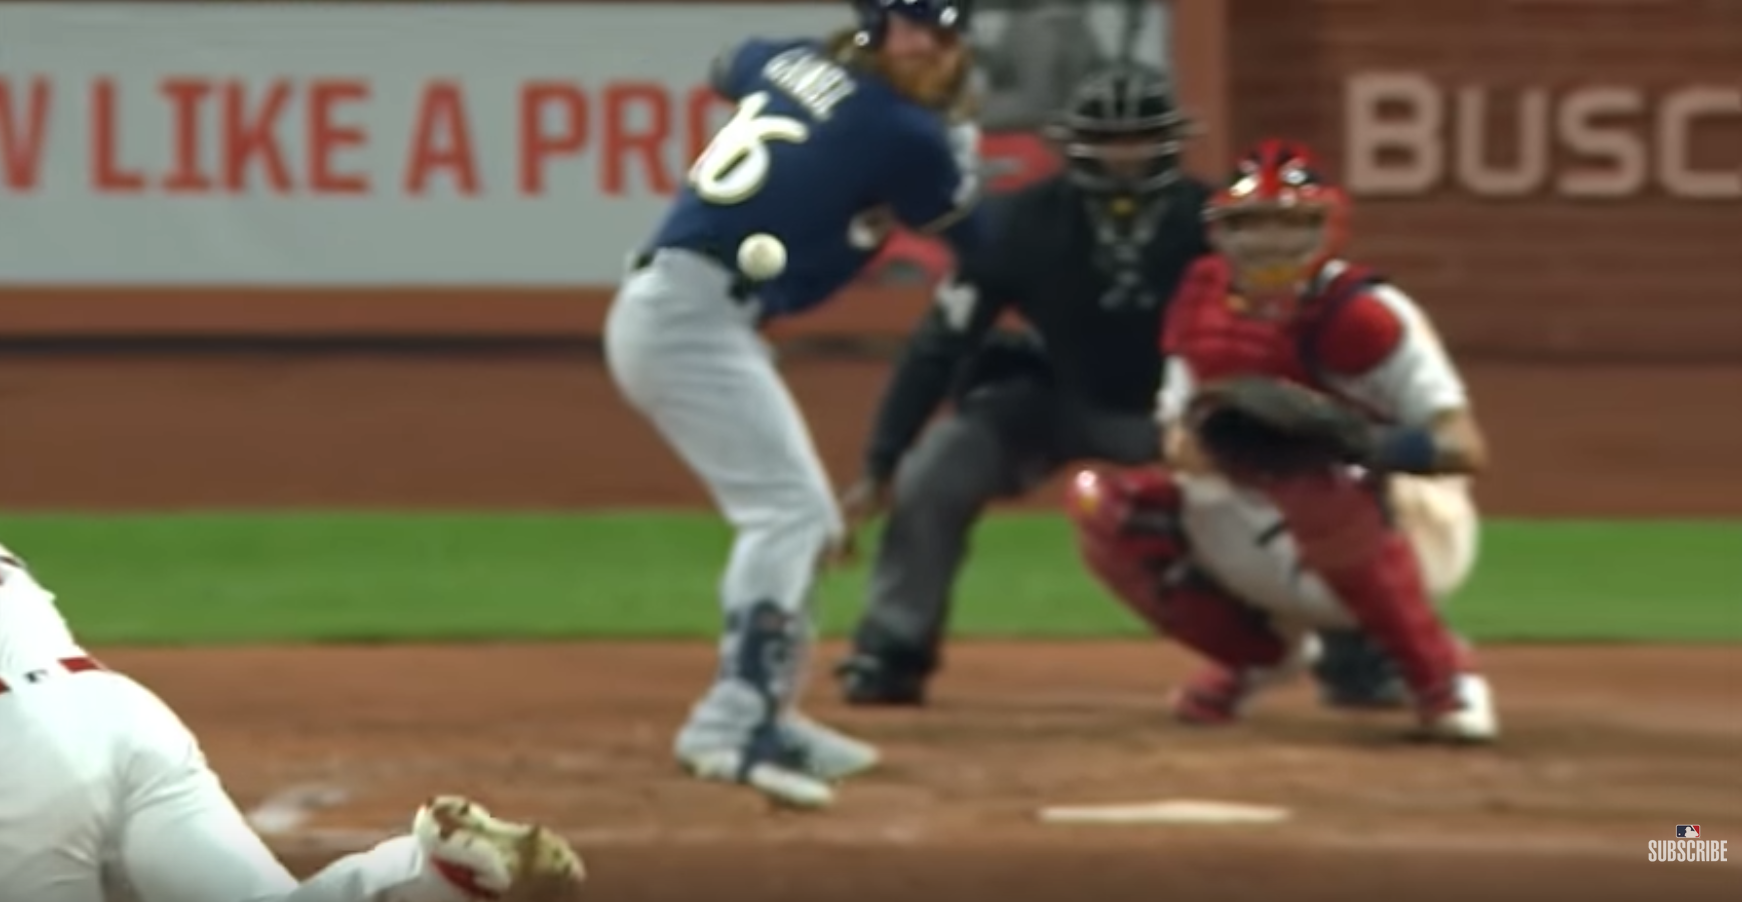ball: (735, 228, 786, 282)
